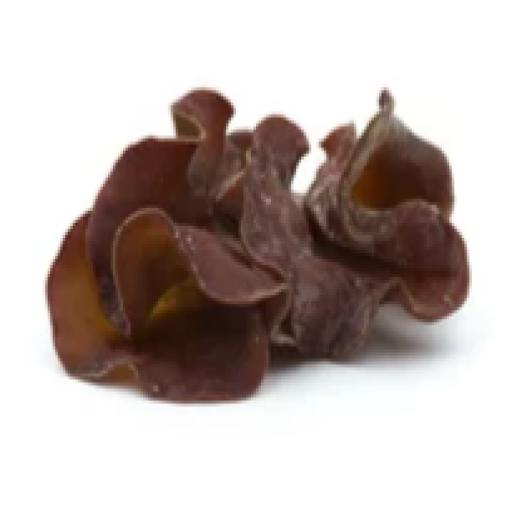Wood Ear Mushroom: (17, 71, 483, 419)
